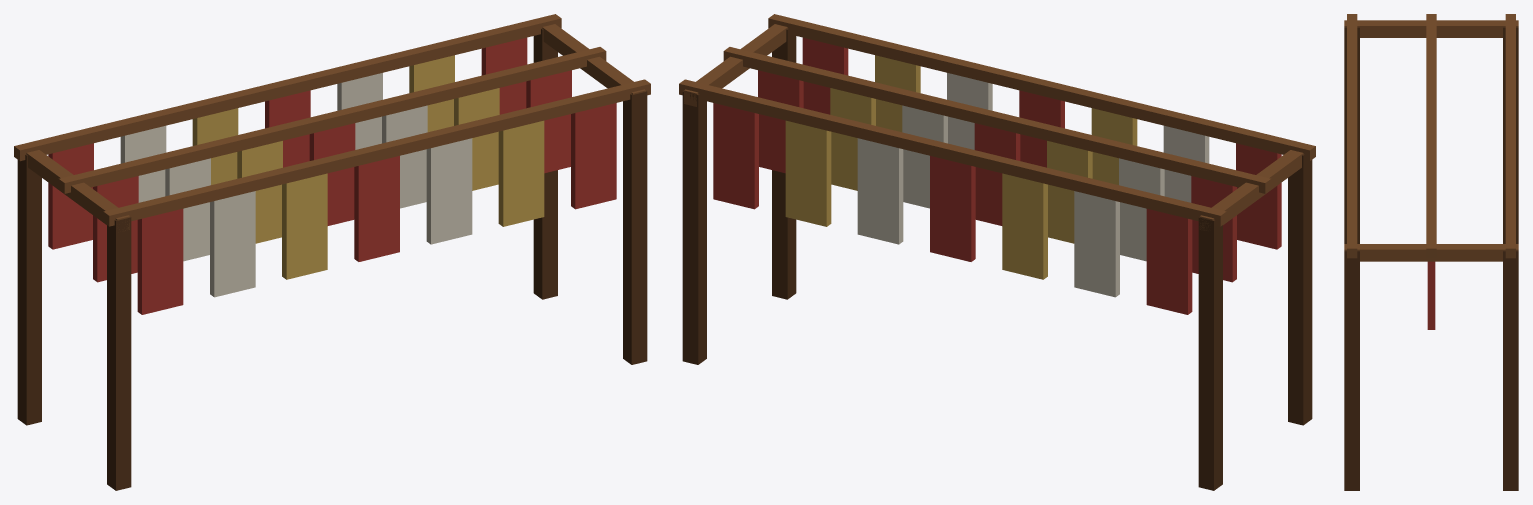
File: drying_rack.glb
3 views of the same model, side by side, from view 1: azimuth 30°, elevation 25°; view 2: azimuth 150°, elevation 25°; view 3: azimuth 270°, elevation 25° (orthographic). The views are drawn at different scales.
Visible parts, largest first — view 1: drying_rack; view 2: drying_rack; view 3: drying_rack.
Part boxes in pixels (x1,y1,x2,y2): drying_rack: (14,14,650,490); drying_rack: (679,14,1315,490); drying_rack: (1344,14,1518,490).
Bounding box in the file's own units: 2.1 × 1.02 × 0.66.
